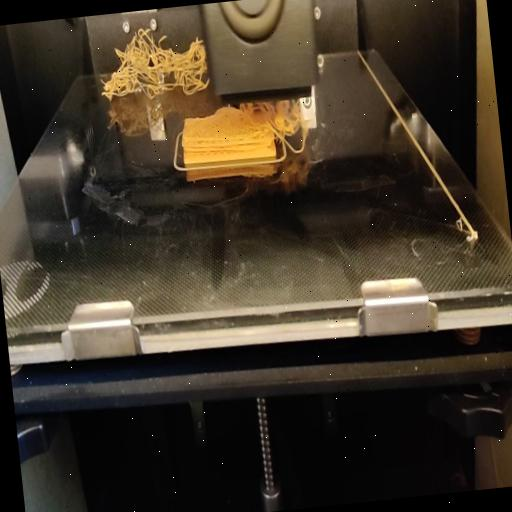spaghetti: (92, 22, 214, 108)
